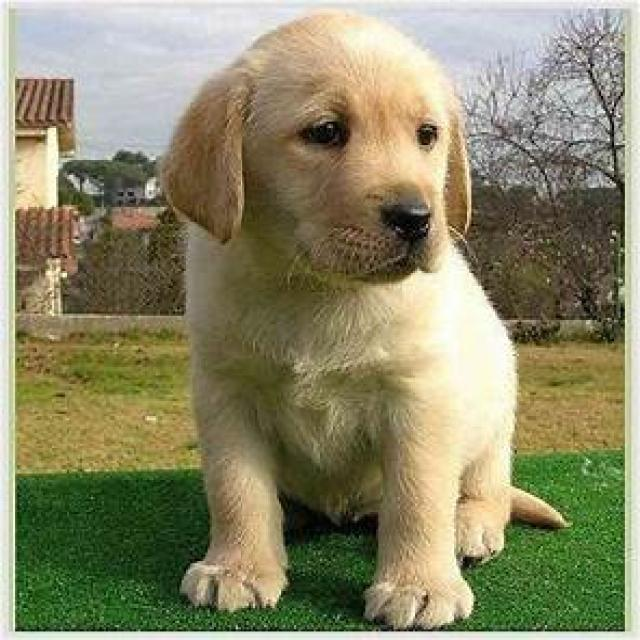dog: (158, 11, 569, 631)
